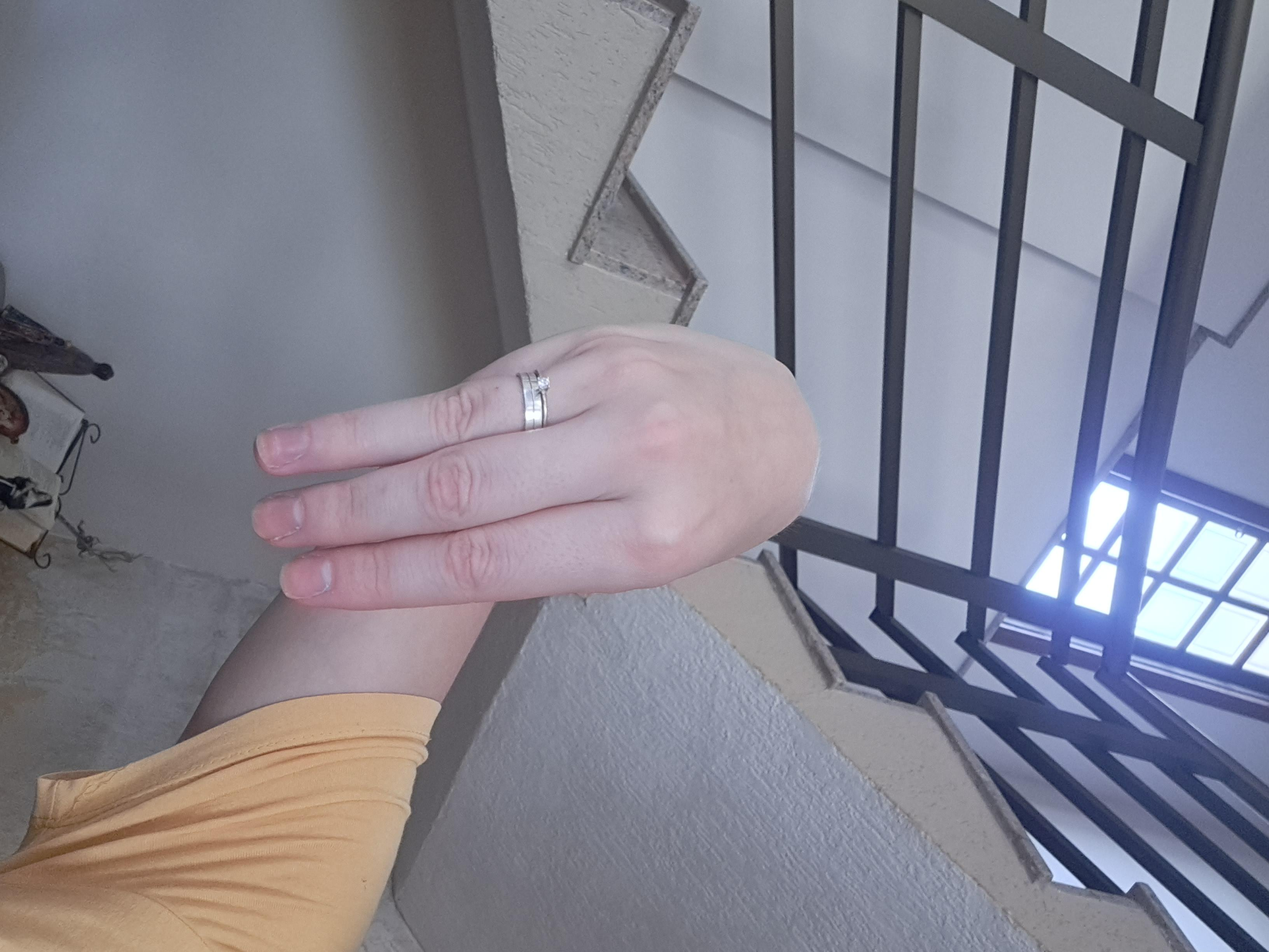M: (430, 327, 855, 776)
